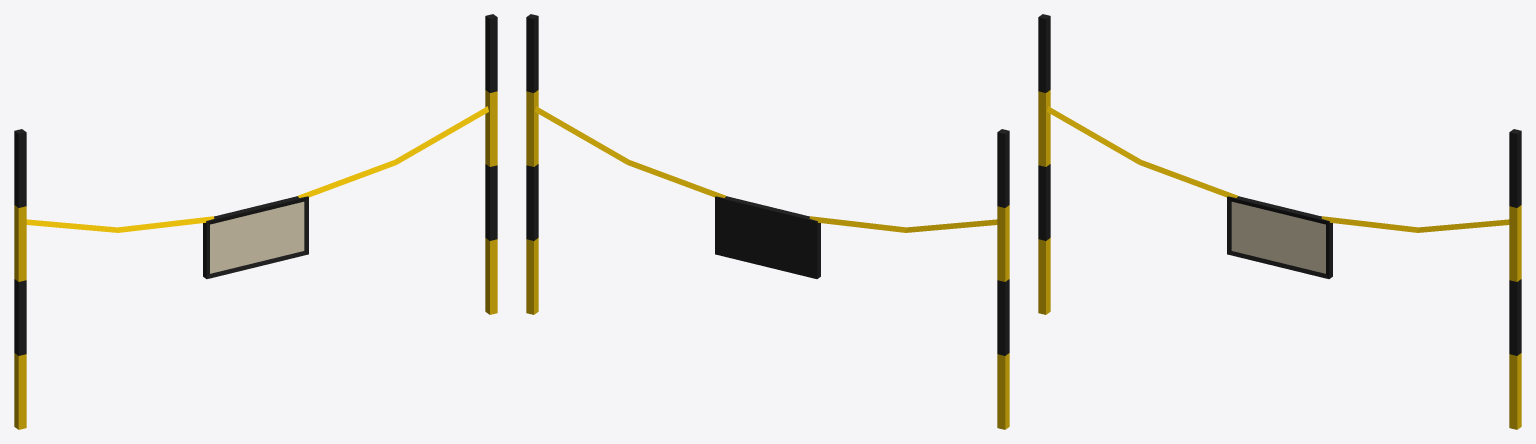
Rendered from rope-gate.glb.
3 renders of one model, left to right at view 1: azimuth 30°, elevation 25°; view 2: azimuth 150°, elevation 25°; view 3: azimuth 330°, elevation 25°, orthographic.
Visible parts, largest first — view 1: rope-gate; view 2: rope-gate; view 3: rope-gate.
Part boxes in pixels (x1=…): rope-gate: x1=14, y1=14, x2=497, y2=429; rope-gate: x1=526, y1=14, x2=1009, y2=429; rope-gate: x1=1038, y1=14, x2=1521, y2=429.
Size of the model in its own units: 3.05 by 1.8 by 0.0495.
